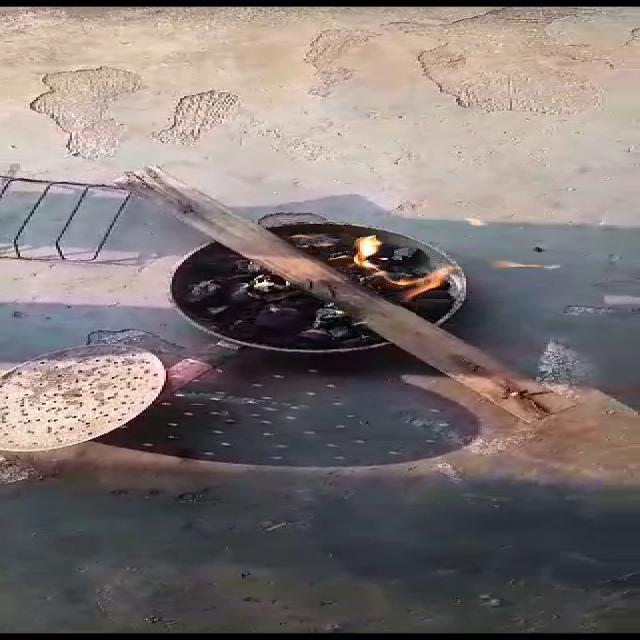Fire: (314, 208, 500, 308)
